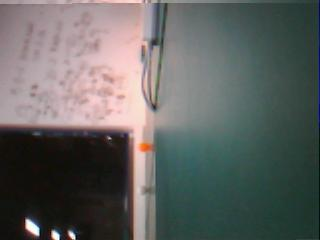oball: (138, 142, 148, 152)
